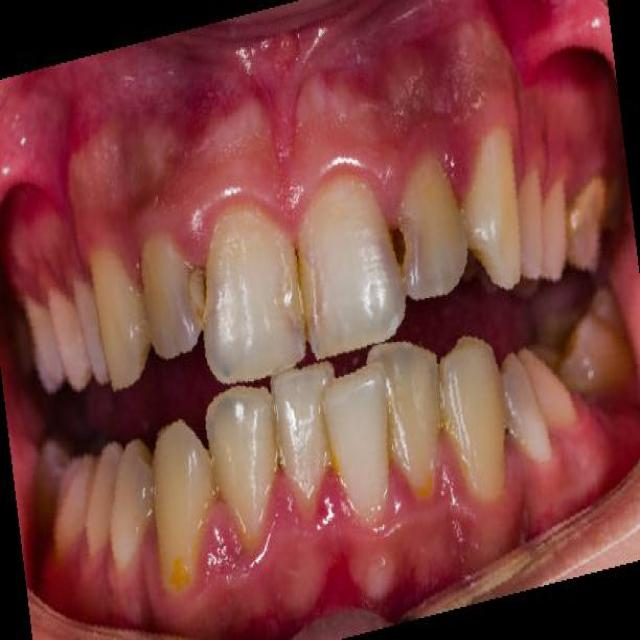bleeding: (318, 462, 352, 530)
swelling: (185, 174, 291, 240), (364, 150, 412, 241), (196, 492, 244, 572)
